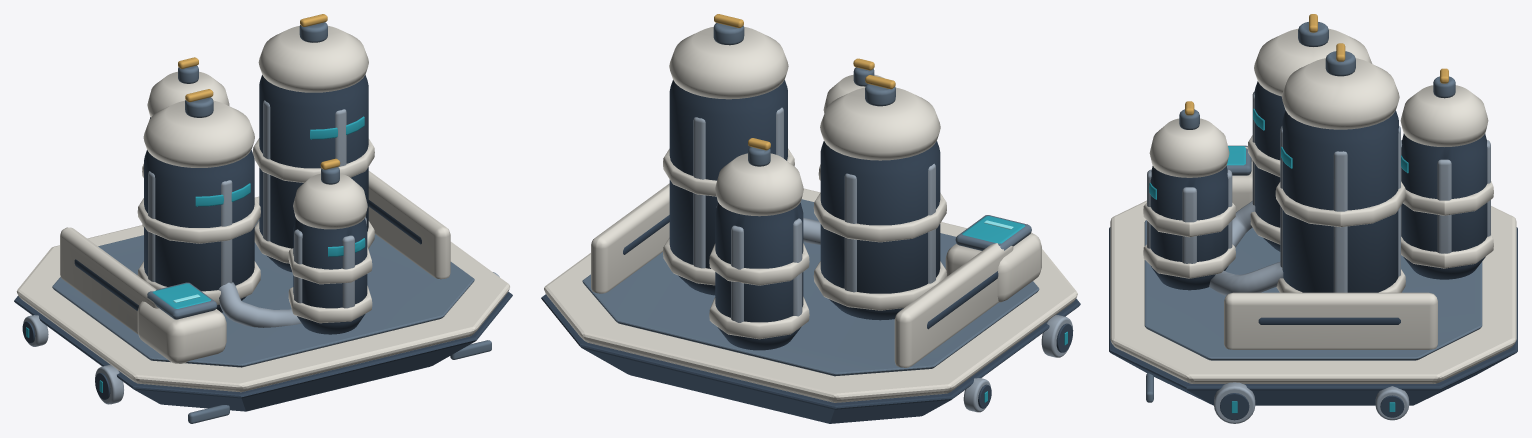
File: heavy_element_refinery_lv4.glb
3 renders of one model, left to right at view 1: azimuth 30°, elevation 25°; view 2: azimuth 150°, elevation 25°; view 3: azimuth 270°, elevation 25°, orthographic. The views are drawn at different scales.
Visible parts, largest first — view 1: Structure; view 2: Structure; view 3: Structure.
Part boxes in pixels (<box>): Structure: <box>14,14,512,423</box>; Structure: <box>541,14,1080,423</box>; Structure: <box>1109,14,1517,423</box>.
Bounding box in the file's own units: 7.58 × 5.35 × 6.31.
